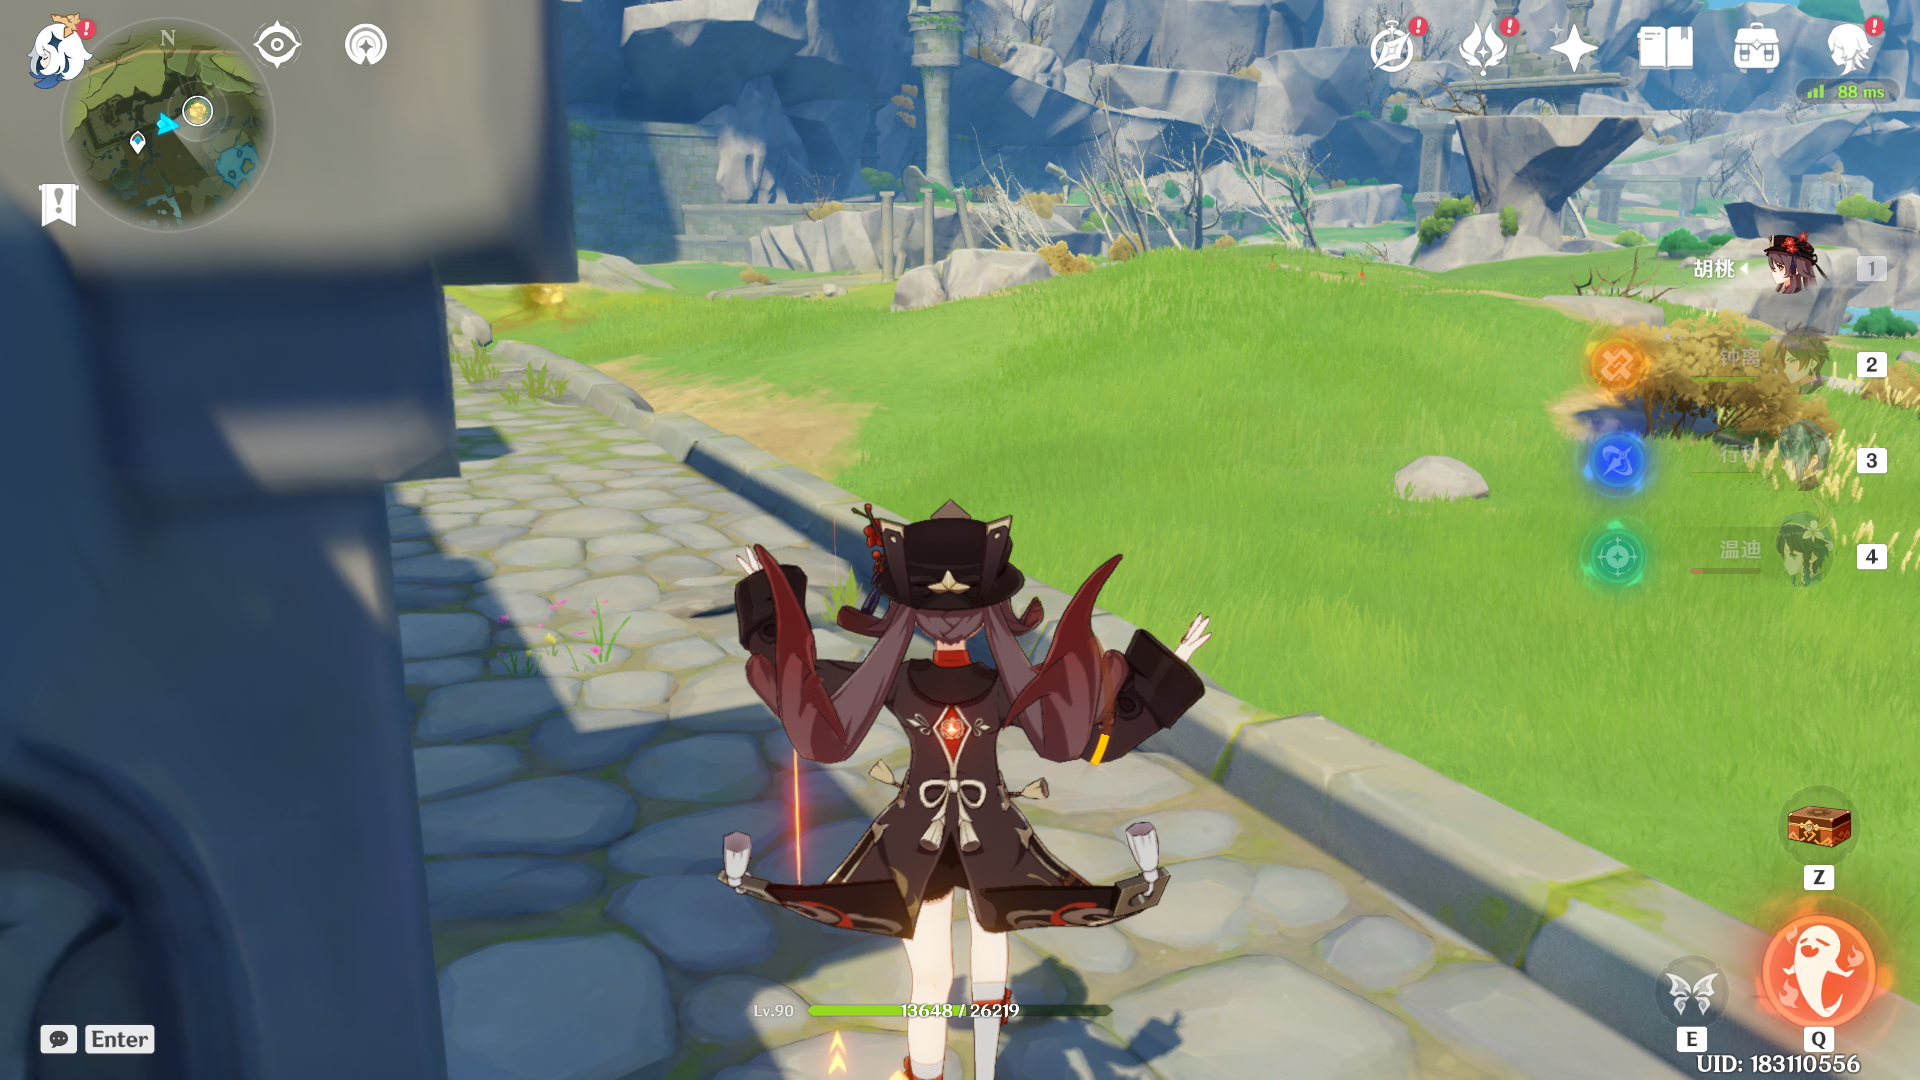character: (568, 448, 1286, 1080)
